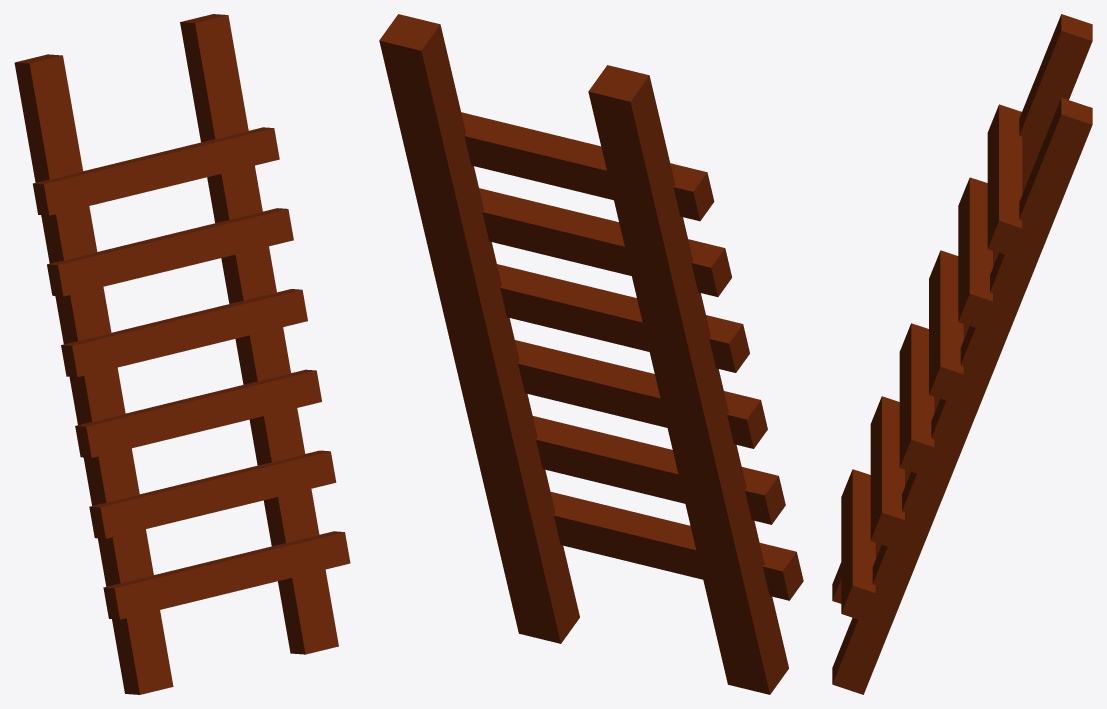
Rendered from ladder_2.FBX.
3 renders of one model, left to right at view 1: azimuth 30°, elevation 25°; view 2: azimuth 150°, elevation 25°; view 3: azimuth 270°, elevation 25°, orthographic. The views are drawn at different scales.
Visible parts, largest first — view 1: ladder_2; view 2: ladder_2; view 3: ladder_2.
Boxes of the visible parts, bbox=[...] form: ladder_2: bbox=[14, 14, 350, 694]; ladder_2: bbox=[379, 14, 803, 694]; ladder_2: bbox=[832, 14, 1092, 694].
Size of the model in its own units: 1.3 by 3.02 by 1.23.
1 material, 1 textured.
